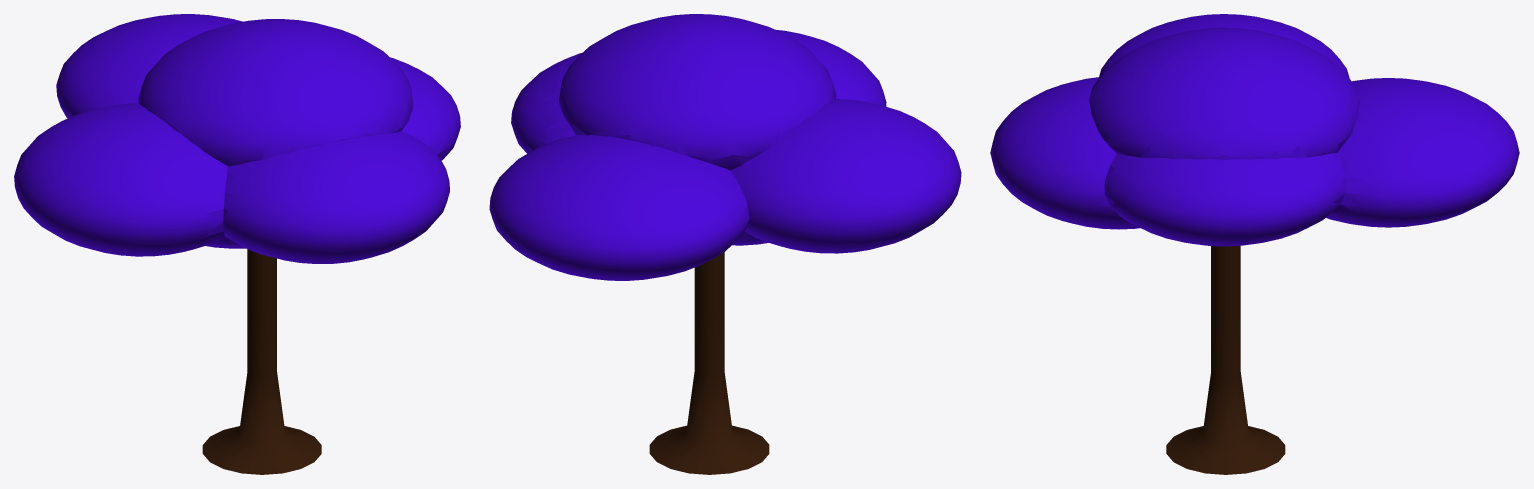
File: tree4.FBX
3 views of the same model, side by side, from view 1: azimuth 30°, elevation 25°; view 2: azimuth 150°, elevation 25°; view 3: azimuth 270°, elevation 25° (orthographic).
Parts seen in each view (by area): view 1: tree1; view 2: tree1; view 3: tree1.
Part boxes in pixels (<box>): tree1: <box>14,14,460,474</box>; tree1: <box>489,14,961,474</box>; tree1: <box>990,14,1519,474</box>.
Bounding box in the file's own units: 48.19 × 45.8 × 53.53.
